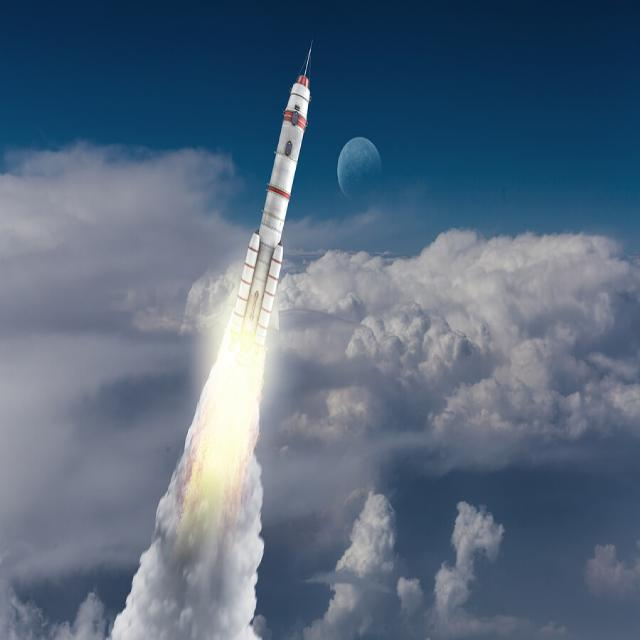large_debris: (318, 242, 632, 446), (3, 128, 256, 312), (322, 486, 526, 640), (0, 578, 128, 640)
medium_debris: (169, 288, 265, 534)
rocket: (238, 52, 314, 329)
